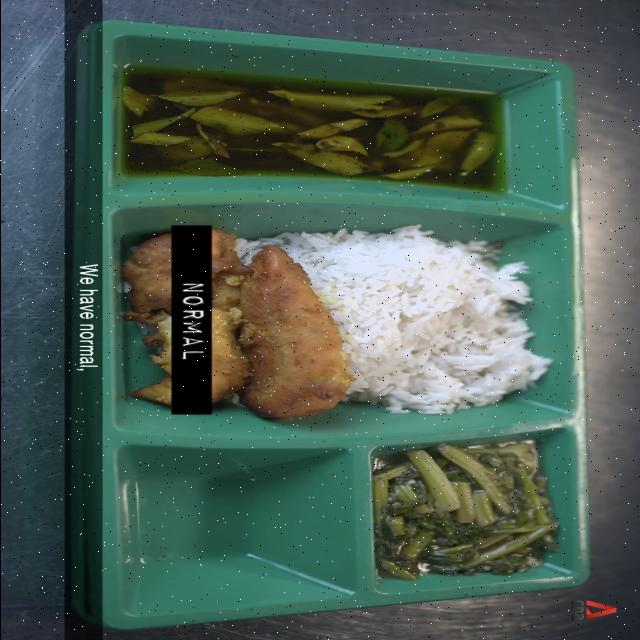Fish: (211, 229, 351, 419), (121, 233, 171, 325), (128, 326, 170, 404)
Green veg: (122, 78, 497, 185), (372, 440, 557, 580)
Rice: (235, 225, 551, 414)
